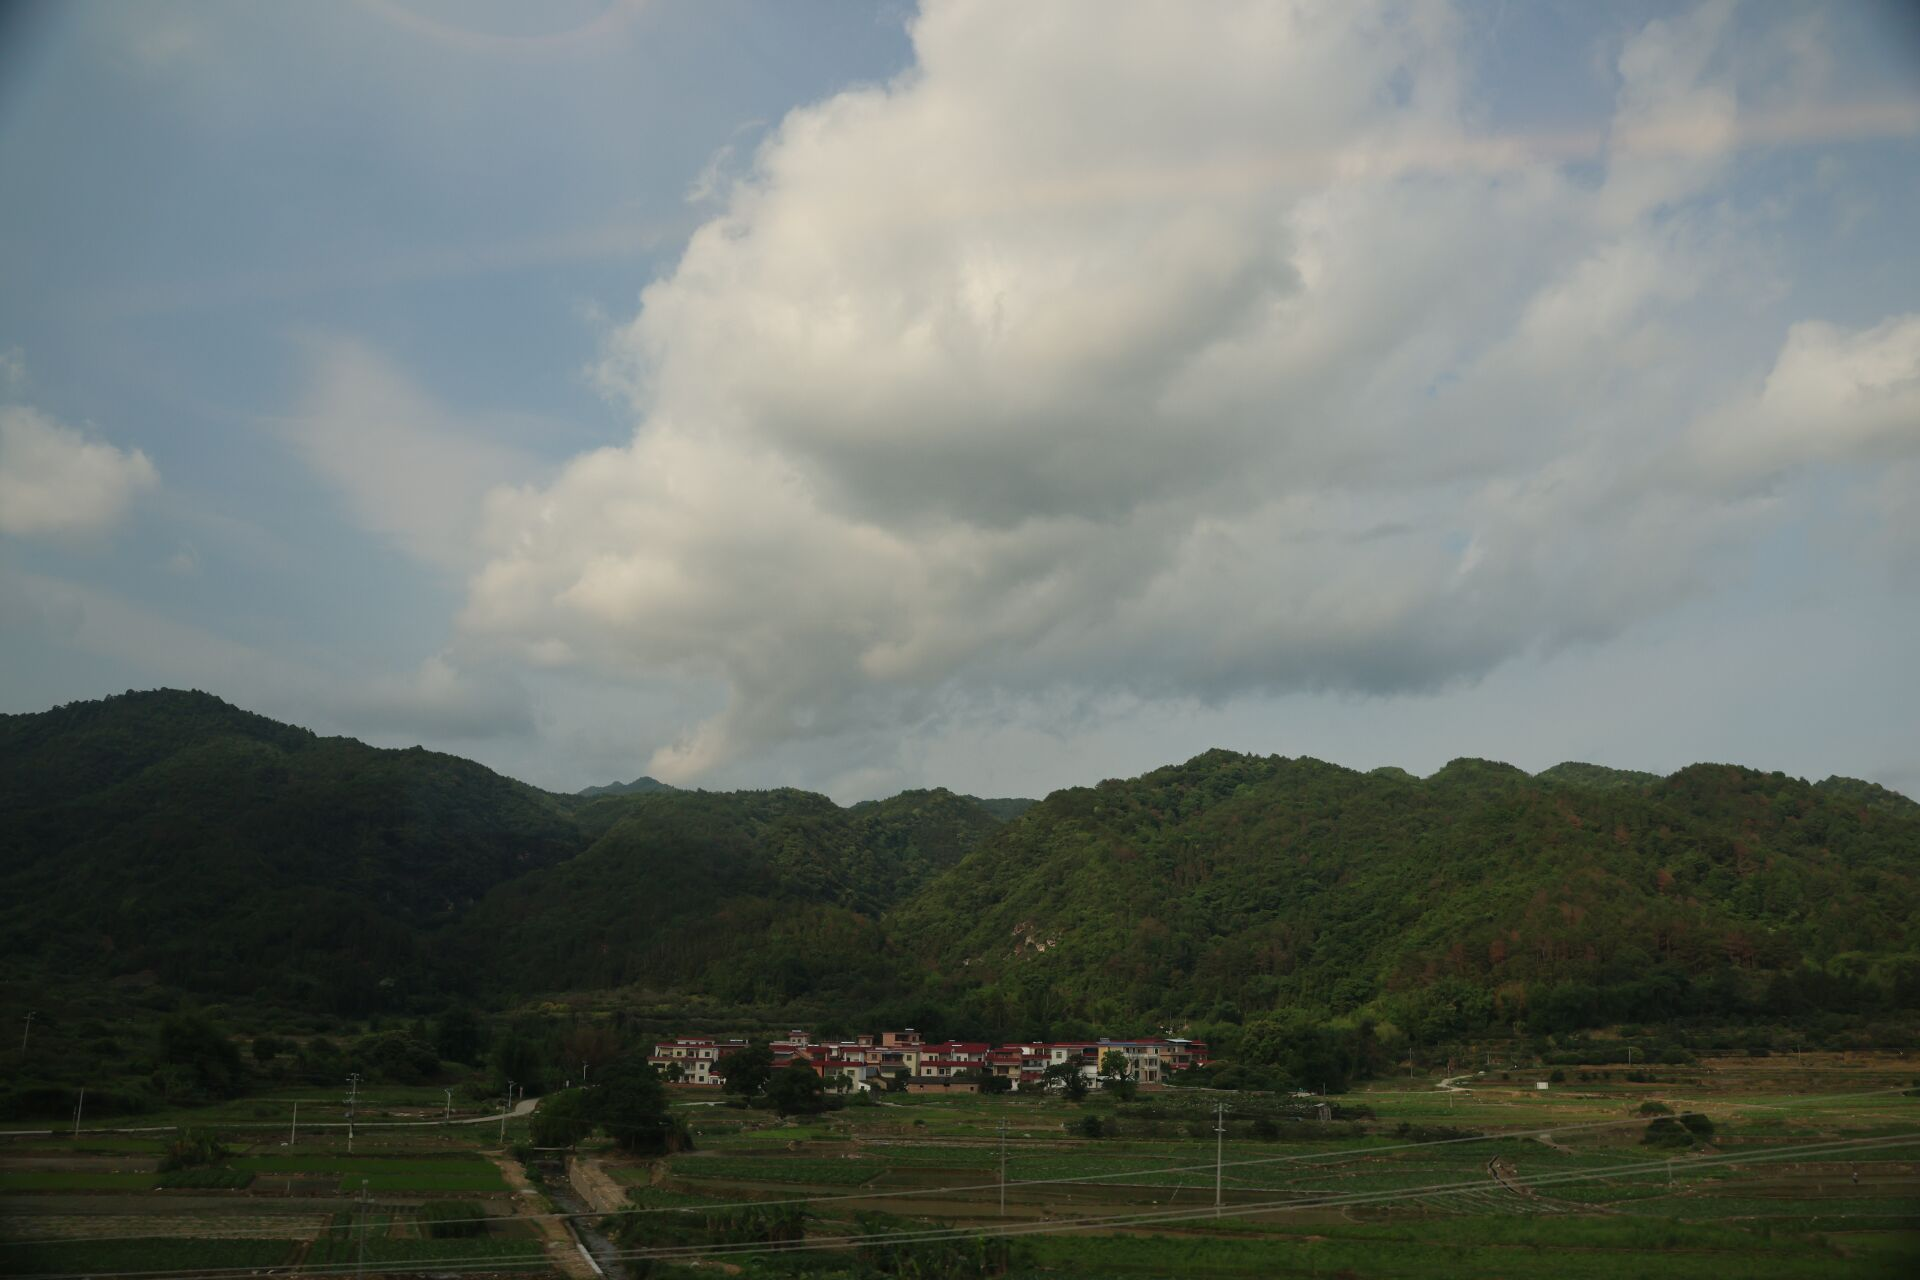Cumulus: (459, 17, 1886, 701)
